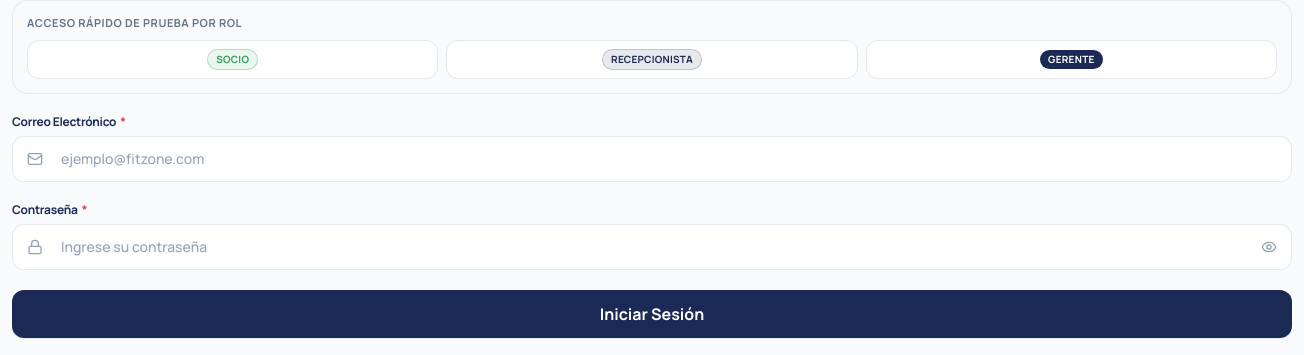
SCRUM-89: LoginForm Component › autocompleta credenciales al hacer clic en un rol rápido
// Hacemos clic en el botón de Gerente
Click the button "Gerente".
click(1071, 59)  # box [866,40,1277,78]
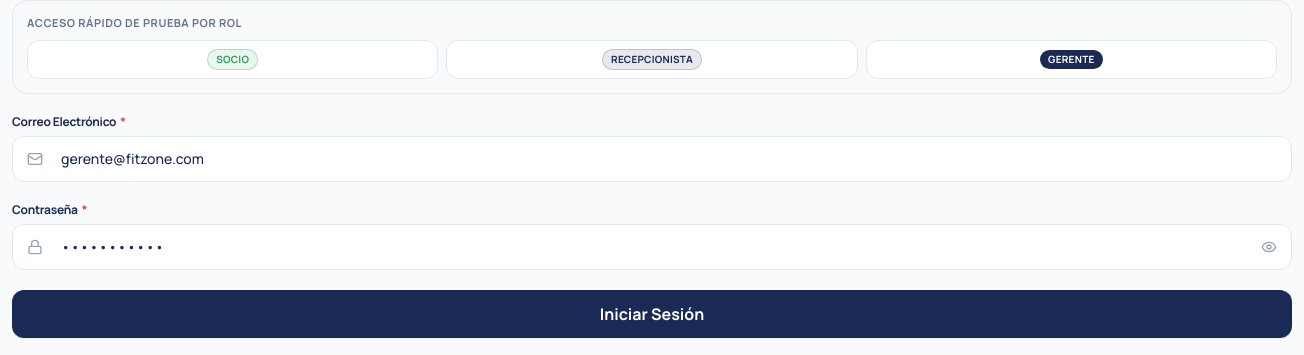
Now the field labelled "Correo Electrónico*" holds "gerente@fitzone.com", box [47,136,1291,180]
Now the password field labelled "Contraseña*" holds "password123", box [47,224,1257,268]
